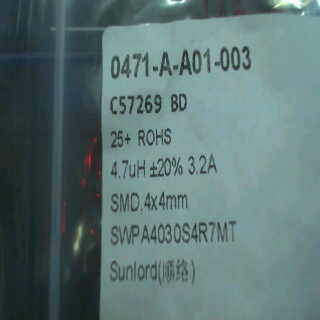4.7uH: (108, 157, 147, 180)
